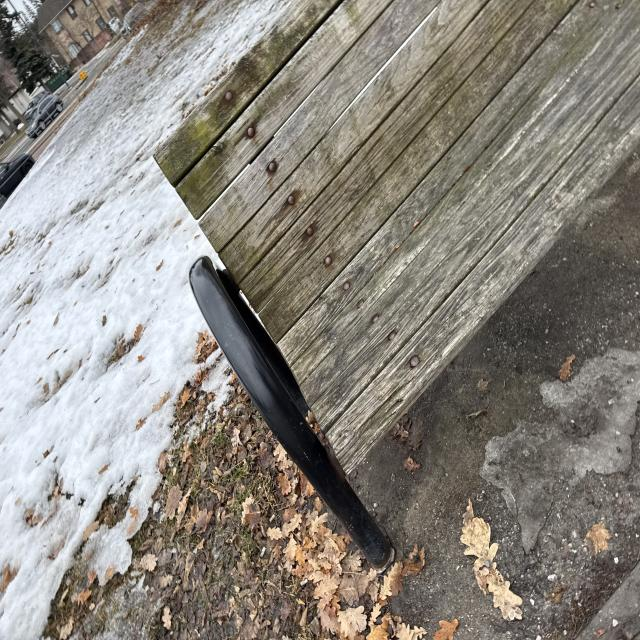Bench: (306, 7, 628, 355)
